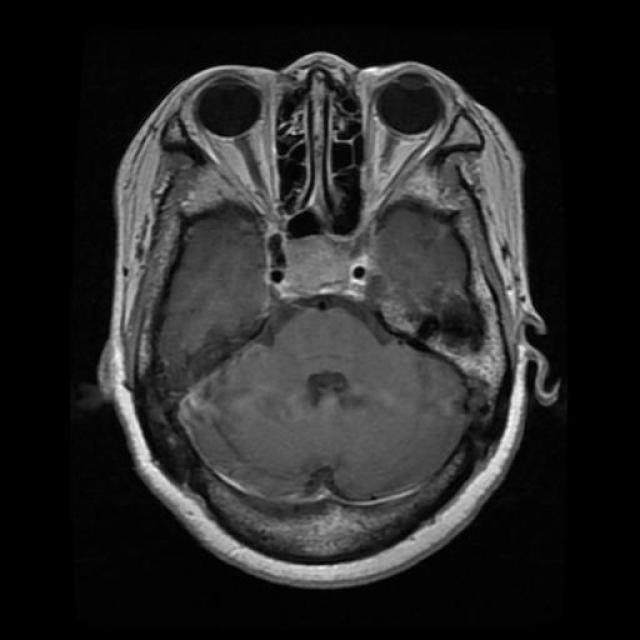pituitary: (260, 211, 368, 320)
